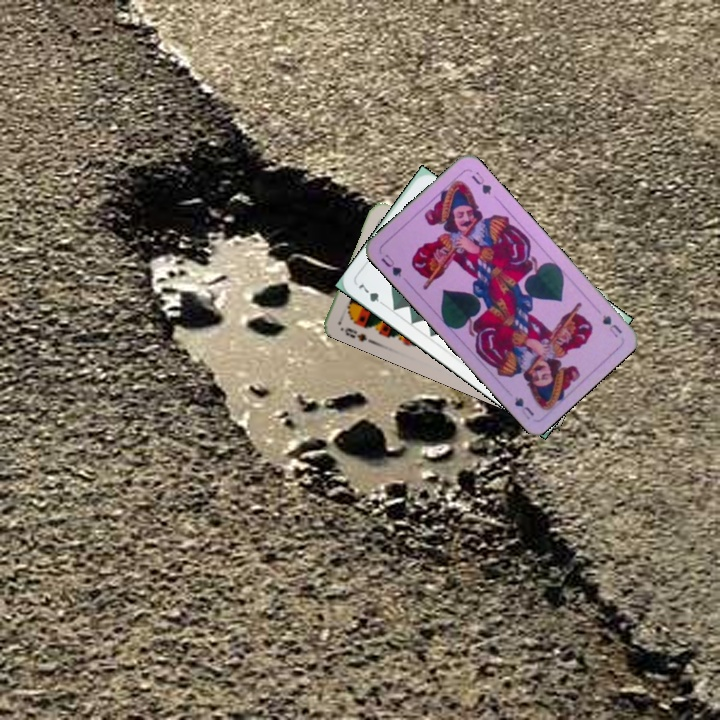G7: (354, 277, 389, 309)
GU: (377, 250, 404, 280), (598, 311, 625, 340)
S8: (340, 324, 370, 344)
